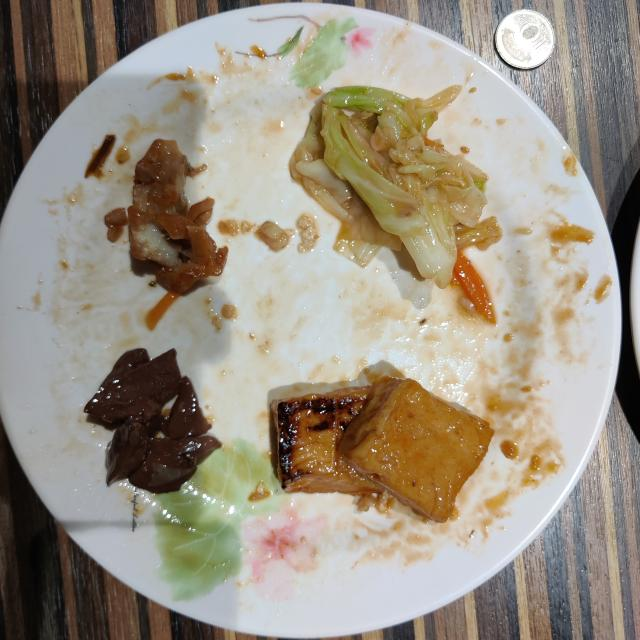Kabayaki sea bream fillet: (128, 140, 228, 295)
cabbage: (290, 85, 501, 288)
coin: (495, 10, 554, 69)
creamy tofu: (270, 376, 494, 522)
pig blood curd: (84, 349, 221, 494)
